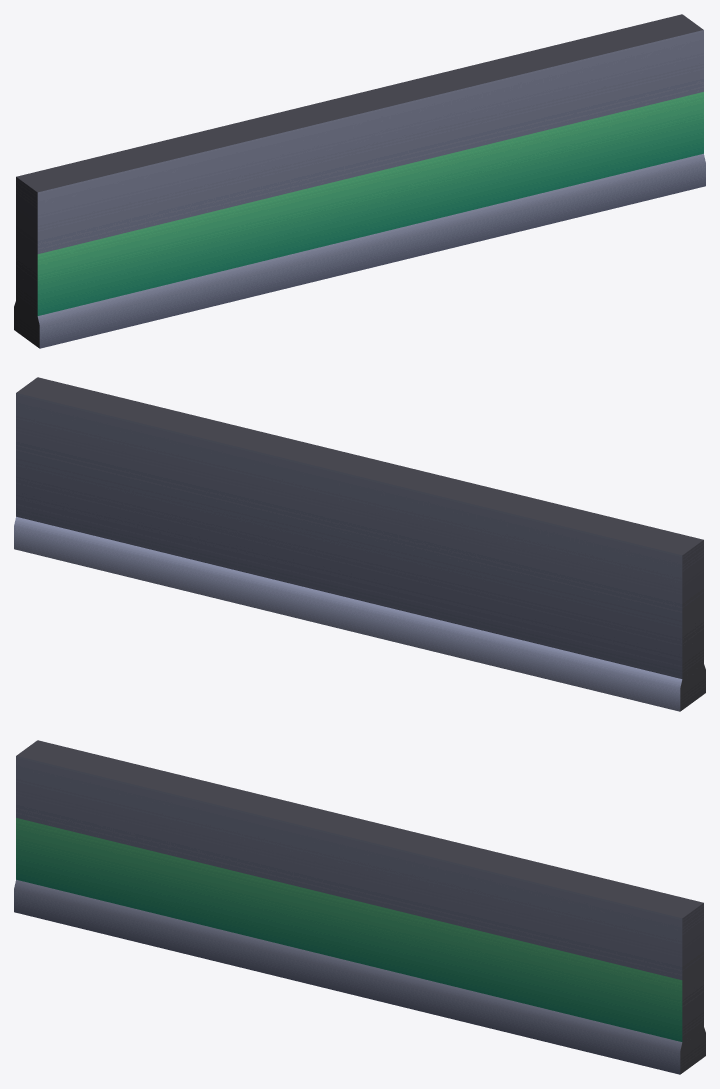
The model's file is wall.038_lev2.glb.
The picture shows the model from 3 angles, top to bottom: view 1: azimuth 30°, elevation 25°; view 2: azimuth 150°, elevation 25°; view 3: azimuth 330°, elevation 25°; orthographic projection.
Visible parts, largest first — view 1: wall.038_lev2; view 2: wall.038_lev2; view 3: wall.038_lev2.
Boxes of the visible parts, x1,y1,x2,y2 form: wall.038_lev2: (14,14,705,348); wall.038_lev2: (14,377,705,711); wall.038_lev2: (14,740,705,1074).
Size of the model in its own units: 18.08 by 4.01 by 1.21.
Materials: 1 (1 with a texture image).
